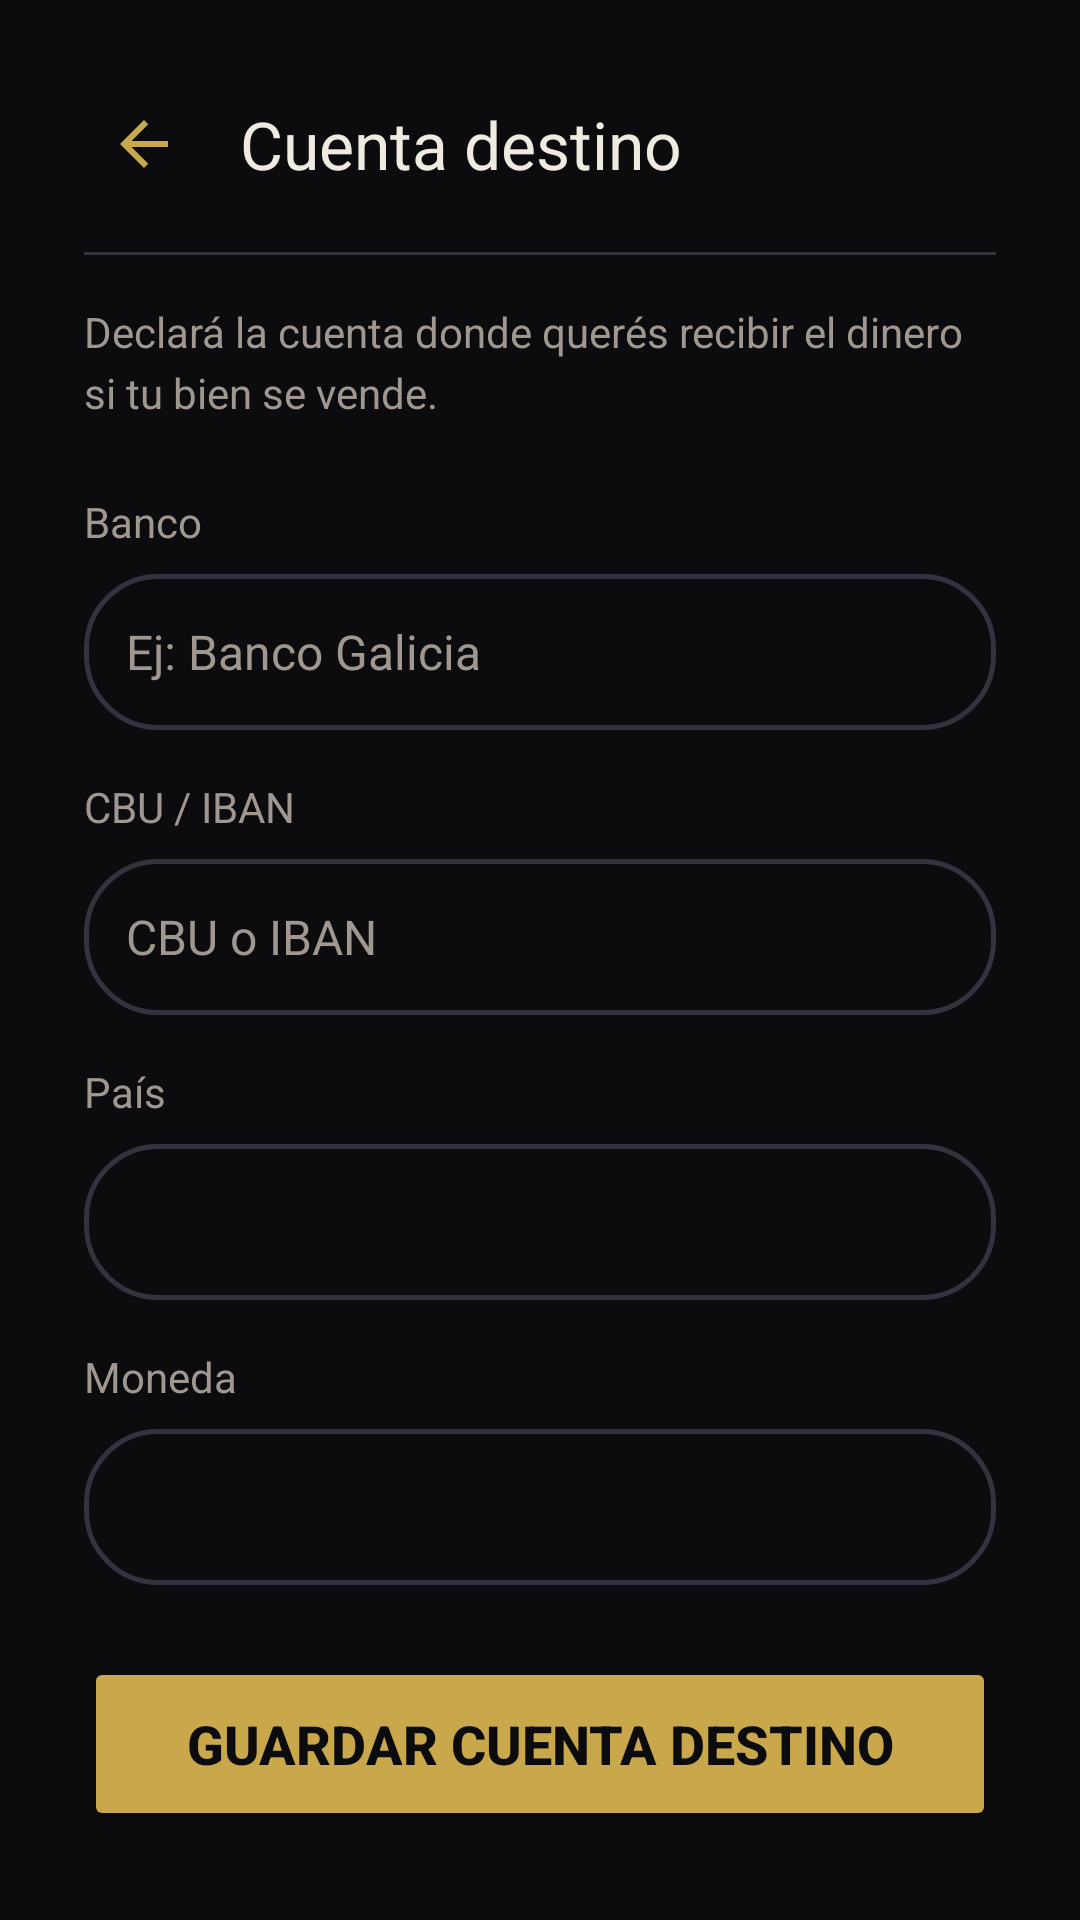

Point at icon controls on the screen. Image size 1080 x 1920, points as [x,y].
arrow back: [144,144]
